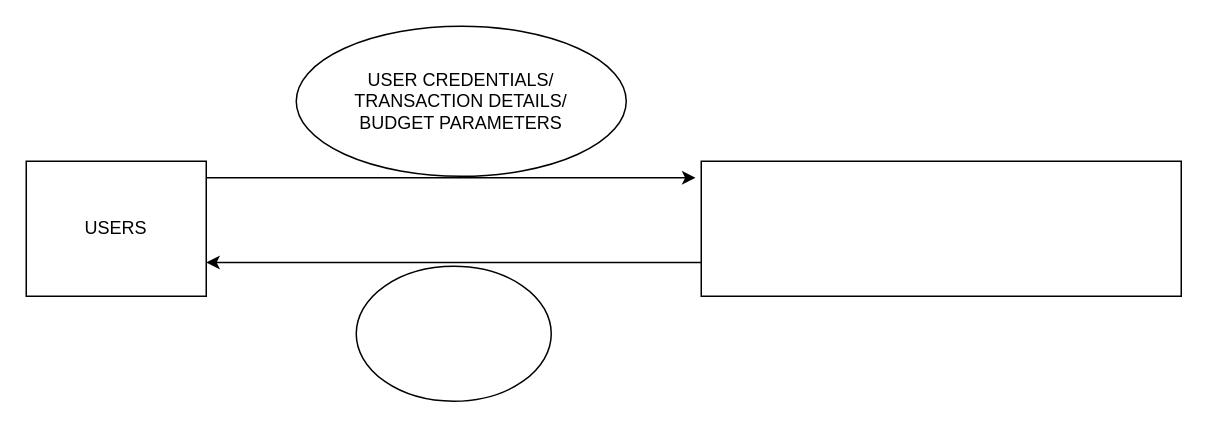
The diagram is 1208 pixels wide and 428 high, and some of its shapes have lost their labels. The shapes that lost their labels are listed below. From the top down, each one's box as (x1, y1, x2, y2) in pixels, then its label:
(700, 160, 1181, 296): PERSONAL FINANCE MANAGEMENT SYSTEM
(355, 265, 551, 401): REPORT GENERATION
